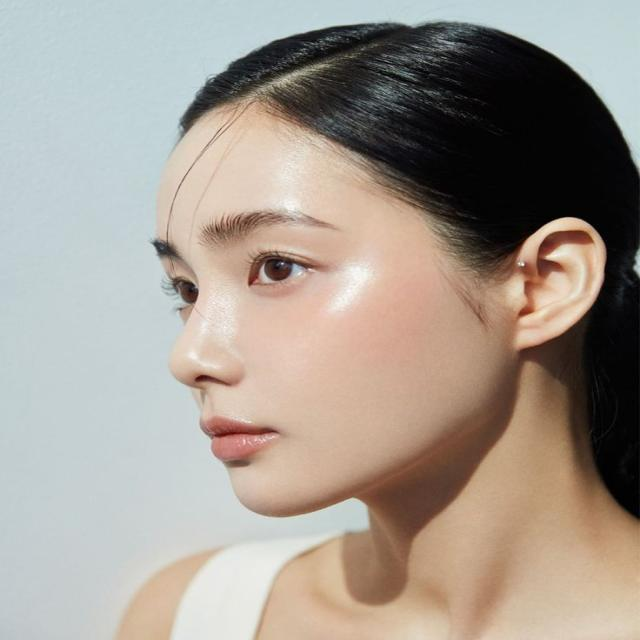Oily-Skin: (309, 247, 431, 401), (179, 296, 286, 387), (258, 146, 358, 210)
